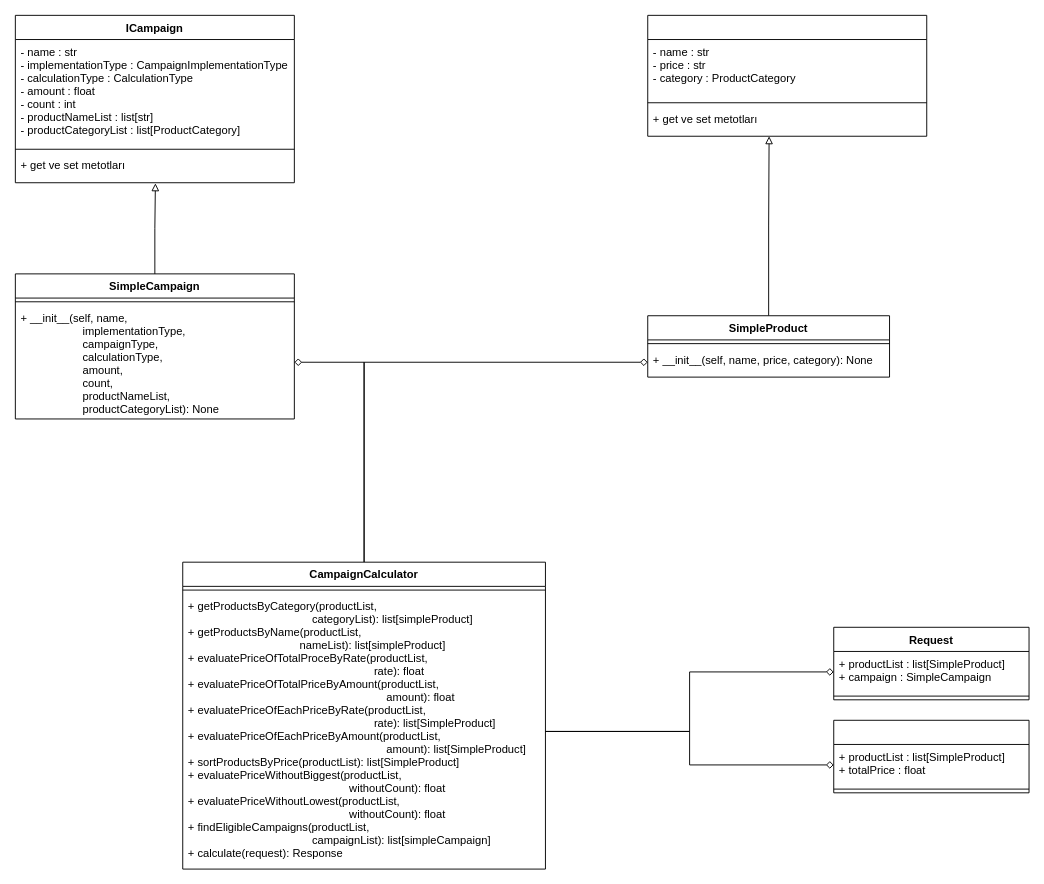
This 1044x884 diagram has some shape labels left out. Each missing label, with the box of its shape:
IProduct: (647, 14, 927, 136)
Response: (833, 719, 1029, 793)
